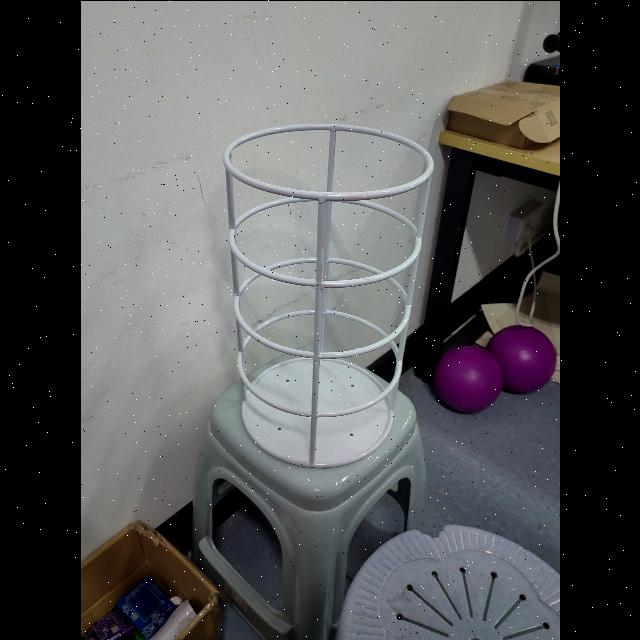S: (217, 118, 438, 470)
